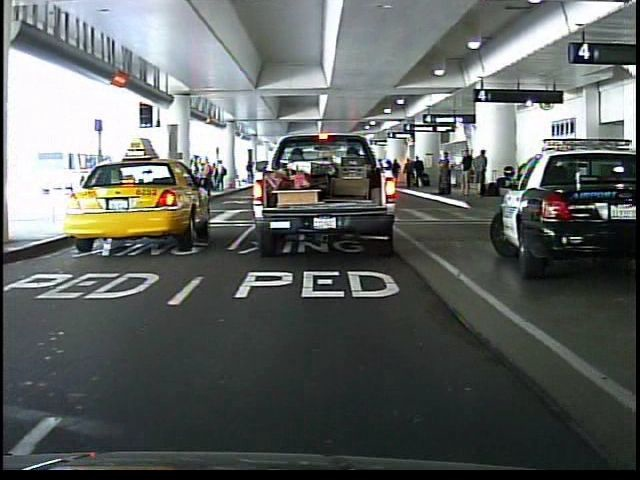person: (282, 146, 312, 224), (342, 144, 367, 207), (245, 159, 257, 187)
